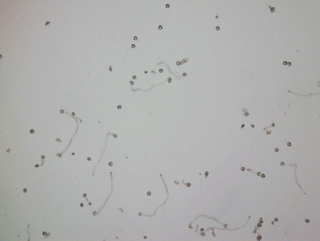germinated: (176, 70, 187, 81), (137, 209, 149, 218), (200, 226, 211, 235), (254, 169, 265, 178), (58, 107, 69, 116), (217, 220, 229, 228), (256, 218, 263, 231), (107, 130, 117, 139), (128, 79, 136, 90), (266, 121, 277, 129), (278, 160, 290, 167), (176, 58, 186, 66), (34, 160, 44, 168), (81, 192, 89, 202), (92, 208, 102, 215), (183, 180, 191, 188), (272, 215, 279, 224)
nongerminated: (156, 22, 165, 32), (162, 1, 171, 10), (114, 102, 123, 111), (27, 127, 37, 135), (213, 23, 221, 32), (130, 33, 139, 41), (129, 41, 138, 49), (213, 12, 222, 20), (106, 160, 114, 168), (21, 186, 30, 193), (285, 139, 292, 148), (238, 164, 245, 173), (268, 5, 275, 13), (273, 146, 280, 154), (145, 189, 153, 196), (85, 155, 93, 162), (39, 154, 47, 161), (131, 74, 139, 81), (139, 234, 148, 240), (281, 59, 288, 66), (304, 217, 311, 224), (157, 67, 164, 74), (142, 69, 149, 76), (249, 123, 255, 130), (286, 60, 292, 67)
